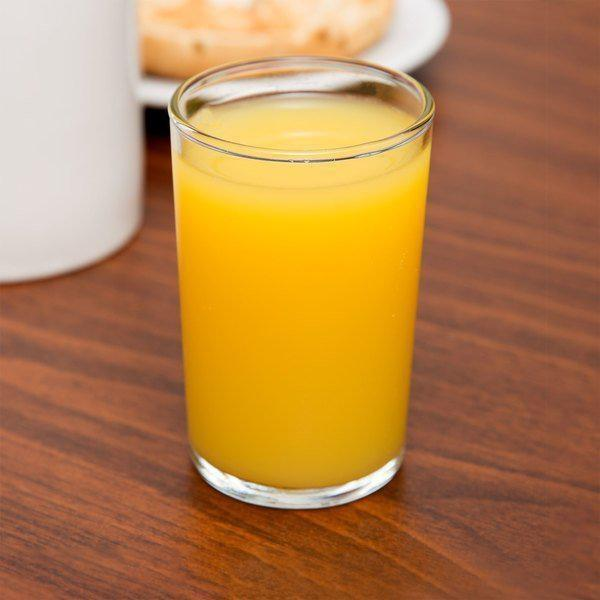glass-normal: (165, 53, 437, 510)
